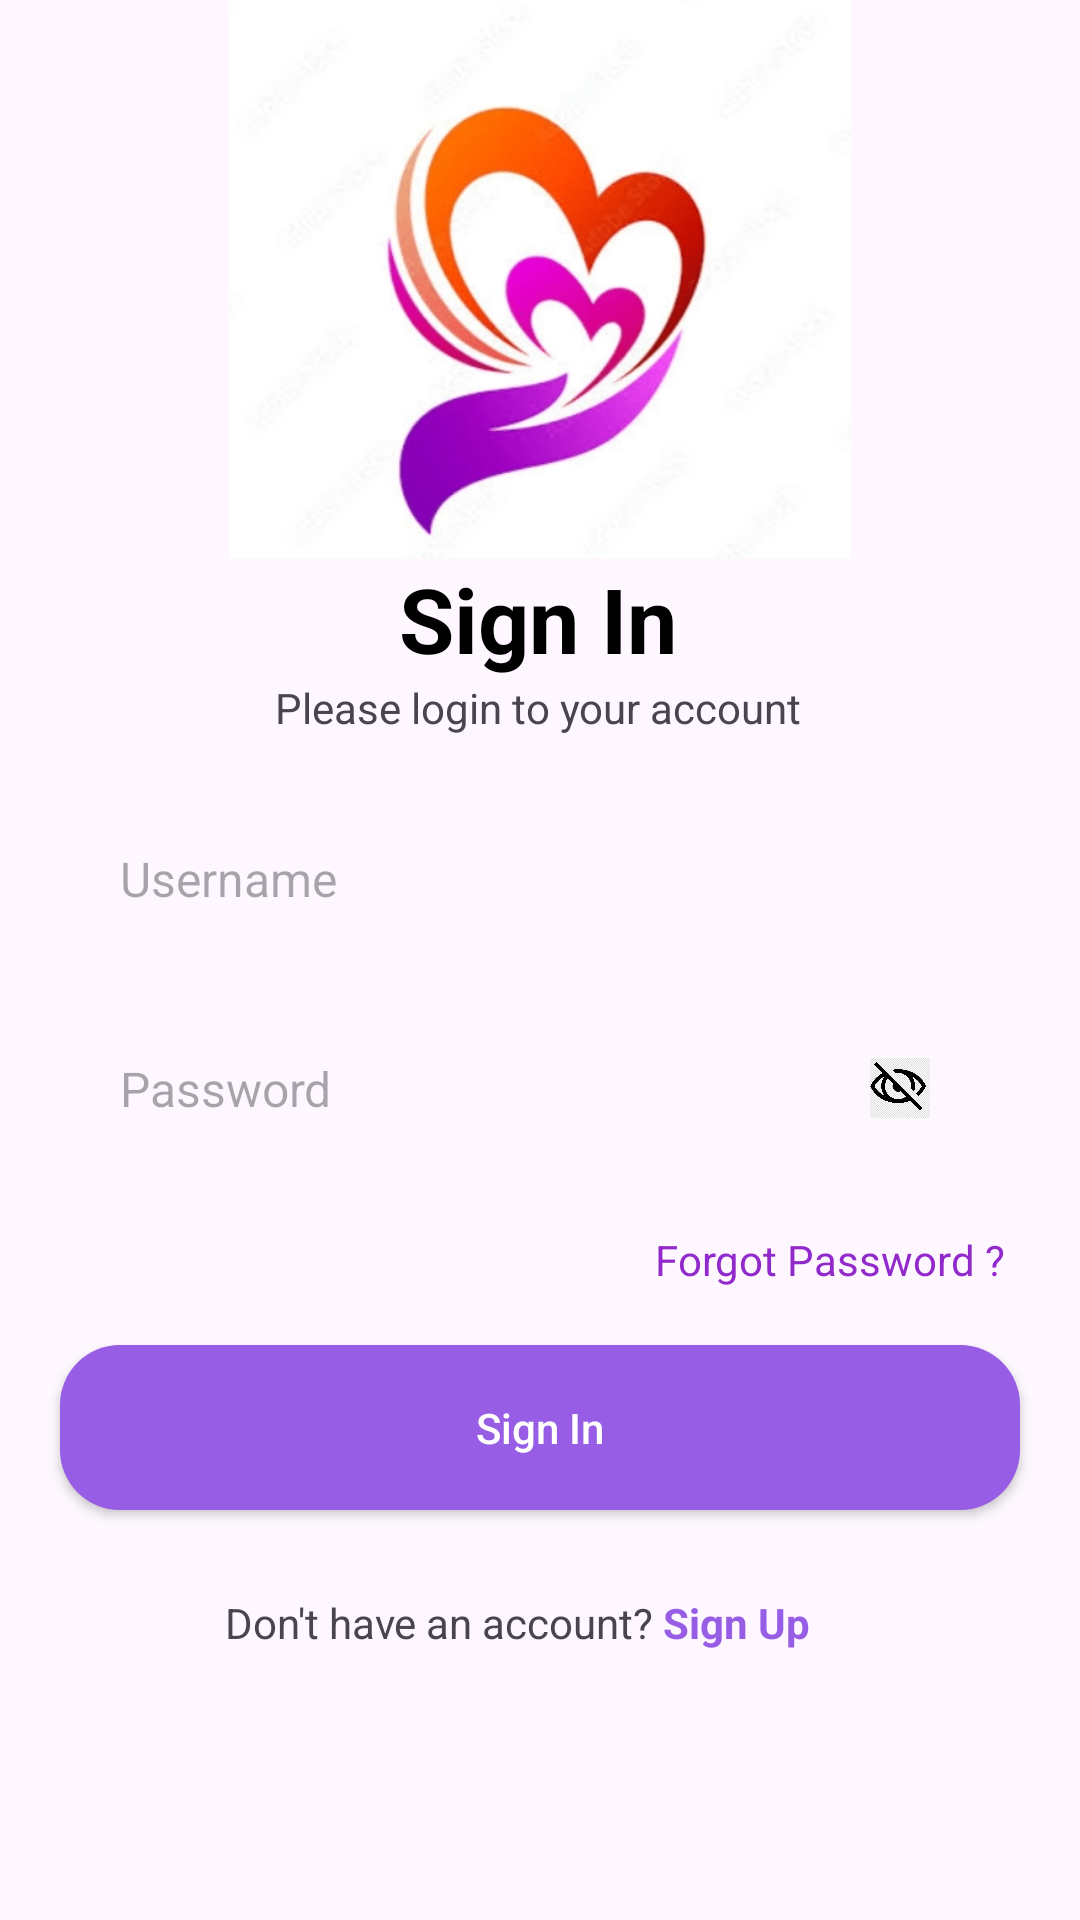

Icon click points for this 1080×1920 phone screenshot, format [x,y]:
hide passwd: [900,1088]
